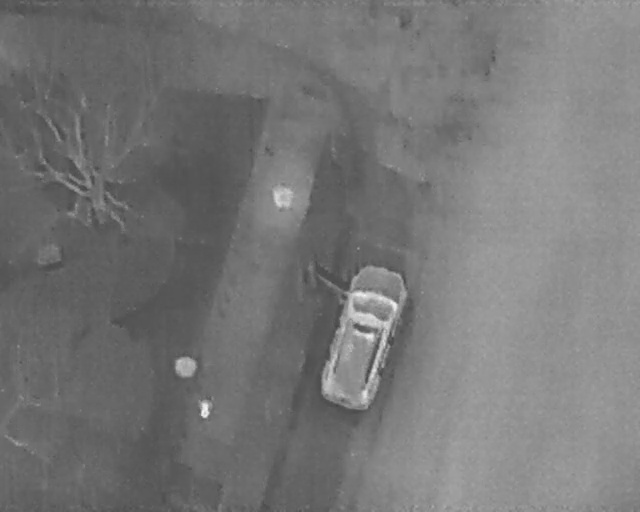Car: (311, 255, 416, 416)
Person: (198, 395, 212, 419)
